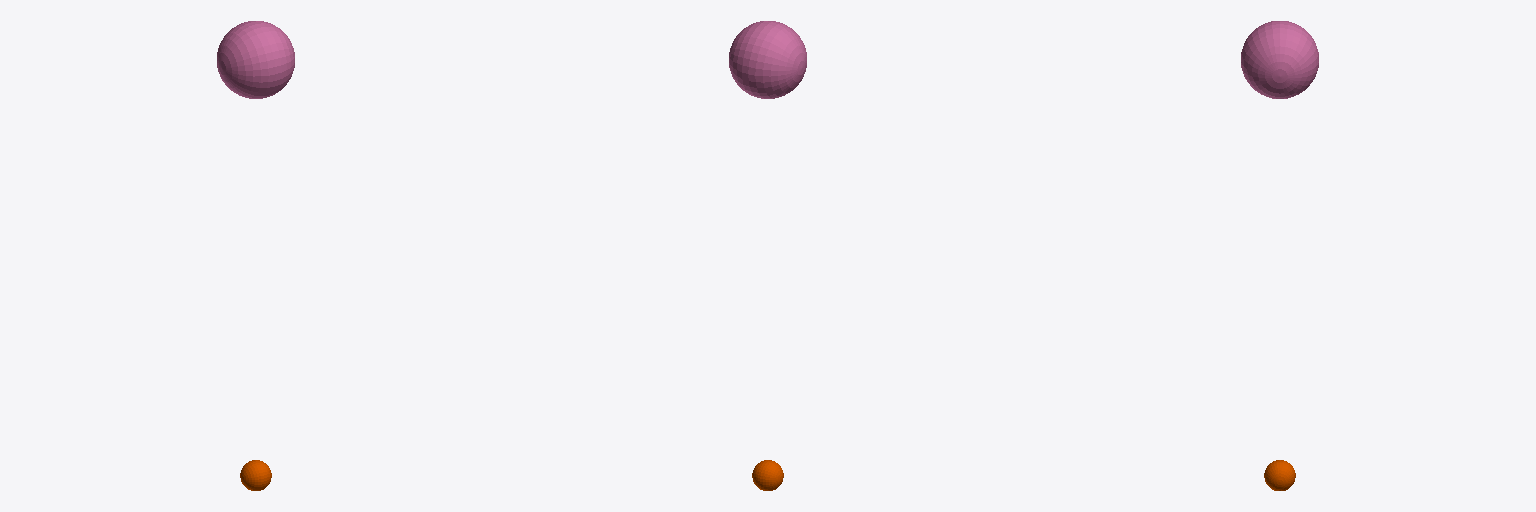
URDF robot description (disher_2oz):
<?xml version="1.0" ?>
<!-- =================================================================================== -->
<!-- |    This document was autogenerated by xacro from ../config/disher_2oz.urdf.xacro | -->
<!-- |    EDITING THIS FILE BY HAND IS NOT RECOMMENDED                                 | -->
<!-- =================================================================================== -->
<robot name="disher_2oz">
  <link name="disher_2oz">
    <visual>
      <!-- xyz="0 0 -0.0075" -->
      <origin rpy="0 0 0" xyz="0 0 0.0"/>
      <geometry>
        <mesh filename="meshes/visual/IST-2D_A.obj"/>
      </geometry>
    </visual>
    <inertial>
      <mass value="0.473"/>
      <origin rpy="0 0 0" xyz="0.002 0.0001 0.0668"/>
      <inertia ixx="0.00179" ixy="0.0" ixz="0.00005" iyy="0.00185" iyz="0.0" izz="0.00012"/>
    </inertial>
    <!-- base cylinder -->
    <collision>
      <origin rpy="0 0 0" xyz="-0.0013 0 0.0281"/>
      <geometry>
        <cylinder length="0.0326" radius="0.032"/>
      </geometry>
    </collision>
    <!--central shaft -->
    <collision>
      <origin rpy="0 0 0" xyz="-0.0013 0 0.08"/>
      <geometry>
        <cylinder length="0.1092" radius="0.016"/>
      </geometry>
    </collision>
    <!--side shaft -->
    <collision>
      <origin rpy="0 0 0" xyz="0.0176 0 0.08"/>
      <geometry>
        <cylinder length="0.1092" radius="0.01"/>
      </geometry>
    </collision>
    <!--thumb hold -->
    <collision>
      <origin xyz="0.0011 -0.0152 0.1394"/>
      <geometry>
        <sphere radius="0.015"/>
      </geometry>
    </collision>
    <!--upper shaft and mechanism -->
    <collision>
      <origin rpy="0 0 0" xyz="0.0089 0.001 0.1646"/>
      <geometry>
        <box size="0.0375 0.02 0.06"/>
      </geometry>
    </collision>
    <!--bowl sphere top -->
    <collision>
      <origin rpy="0 0 0" xyz="0.0116 0 0.2336"/>
      <geometry>
        <sphere radius="0.014"/>
      </geometry>
    </collision>
    <!--bowl sphere top mid -y -->
    <collision>
      <origin rpy="0 0 0" xyz="0.0116 -0.0109 0.2272"/>
      <geometry>
        <sphere radius="0.014"/>
      </geometry>
    </collision>
    <!--bowl sphere top mid +y -->
    <collision>
      <origin rpy="0 0 0" xyz="0.0116 0.0109 0.2272"/>
      <geometry>
        <sphere radius="0.014"/>
      </geometry>
    </collision>
    <!--bowl sphere bottom mid -y -->
    <collision>
      <origin rpy="0 0 0" xyz="0.0116 -0.0109 0.2147"/>
      <geometry>
        <sphere radius="0.014"/>
      </geometry>
    </collision>
    <!--bowl sphere bottom mid +y -->
    <collision>
      <origin rpy="0 0 0" xyz="0.0116 0.0109 0.2147"/>
      <geometry>
        <sphere radius="0.014"/>
      </geometry>
    </collision>
    <!--bowl sphere bottom -->
    <collision>
      <origin rpy="0 0 0" xyz="0.0116 0 0.2084"/>
      <geometry>
        <sphere radius="0.014"/>
      </geometry>
    </collision>
    <!--bowl sphere back -->
    <collision>
      <origin rpy="0 0 0" xyz="0.0049 0 0.221"/>
      <geometry>
        <sphere radius="0.014"/>
      </geometry>
    </collision>
    <!--bowl cylinder -->
    <collision>
      <origin rpy="0 1.5707 0" xyz="0.0216 0 0.221"/>
      <geometry>
        <cylinder length="0.01" radius="0.03"/>
      </geometry>
    </collision>
  </link>
  <!-- Surface frame sits on the surface of the tool (and the primary tag)-->
  <link name="disher_2oz_surface"/>
  <joint name="disher_2oz_to_disher_2oz_surface" type="fixed">
    <parent link="disher_2oz"/>
    <child link="disher_2oz_surface"/>
    <origin rpy="0 0 0" xyz="0 0 0.014"/>
  </joint>
  <!-- The pivot axis is the axis that the tool rotates around when the robot is holding it. -->
  <link name="disher_2oz_pivot_axis"/>
  <joint name="disher_2oz_surface_to_pivot_axis" type="fixed">
    <parent link="disher_2oz_surface"/>
    <child link="disher_2oz_pivot_axis"/>
    <origin rpy="0 0 0" xyz="0 0 0.0225"/>
  </joint>
  <!-- The primary tag is the tag at surface that is used to identify the tool. -->
  <link name="disher_2oz_primary_tag"/>
  <joint name="disher_2oz_surface_to_disher_2oz_primary_tag" type="fixed">
    <parent link="disher_2oz_surface"/>
    <child link="disher_2oz_primary_tag"/>
    <origin rpy="3.14159265359 0 1.5707963267948966" xyz="0.00719 0.00 0.00"/>
  </joint>
  <!-- The secondary tag is the tag inside the hole of the tool that is used to identify the tool. -->
  <link name="disher_2oz_secondary_tag"/>
  <joint name="disher_2oz_primary_tag_to_secondary_tag" type="fixed">
    <parent link="disher_2oz_primary_tag"/>
    <child link="disher_2oz_secondary_tag"/>
    <origin rpy="0 0 0" xyz="0 -0.0185644 -0.01136"/>
  </joint>
  <link name="disher_2oz_face">
    <visual>
      <origin xyz="0.0 0.0 0.0"/>
      <geometry>
        <sphere radius="0.001"/>
      </geometry>
    </visual>
  </link>
  <joint name="disher_2oz_to_disher_2oz_face" type="fixed">
    <parent link="disher_2oz"/>
    <child link="disher_2oz_face"/>
    <origin rpy="0 -1.5707963267948966 3.141592653589793" xyz="0.0256 0 0.221"/>
  </joint>
  <link name="disher_2oz_tip">
    <collision>
      <origin xyz="0.0 0.0 0.0"/>
      <geometry>
        <sphere radius="0.0025"/>
      </geometry>
    </collision>
    <visual>
      <origin xyz="0.0 0.0 0.0"/>
      <geometry>
        <sphere radius="0.0025"/>
      </geometry>
    </visual>
  </link>
  <joint name="disher_2oz_to_disher_2oz_tip" type="fixed">
    <parent link="disher_2oz"/>
    <child link="disher_2oz_tip"/>
    <origin rpy="0 -1.5707963267948966 3.141592653589793" xyz="0.0256 0 0.2501"/>
  </joint>
  <link name="disher_2oz_neck"/>
  <joint name="disher_2oz_to_disher_2oz_neck" type="fixed">
    <parent link="disher_2oz"/>
    <child link="disher_2oz_neck"/>
    <origin rpy="0 -1.5707963267948966 3.141592653589793" xyz="0.0256 0 0.1918"/>
  </joint>
</robot>

--- Render facts (derived) ---
The picture shows the robot from 3 angles, left to right: view 1: azimuth 30°, elevation 25°; view 2: azimuth 150°, elevation 25°; view 3: azimuth 270°, elevation 25°; orthographic projection.
Robot: disher_2oz — 8 links, 7 joints (7 fixed); root link disher_2oz; default pose: all joints at 0.
Links seen in each view (by area): view 1: disher_2oz_tip, disher_2oz_face; view 2: disher_2oz_tip, disher_2oz_face; view 3: disher_2oz_tip, disher_2oz_face.
Link boxes in pixels (bbox=[...]): disher_2oz_tip: bbox=[217, 21, 294, 98]; disher_2oz_face: bbox=[240, 460, 271, 490]; disher_2oz_tip: bbox=[729, 21, 806, 98]; disher_2oz_face: bbox=[752, 460, 783, 490]; disher_2oz_tip: bbox=[1241, 21, 1318, 98]; disher_2oz_face: bbox=[1264, 460, 1295, 490].
Size in the robot's own frame: 0.005 by 0.005 by 0.0326 metres.
0 mesh visuals loaded from 1 distinct referenced files (none loaded); not drawn: 1 (file found but could not be loaded).
